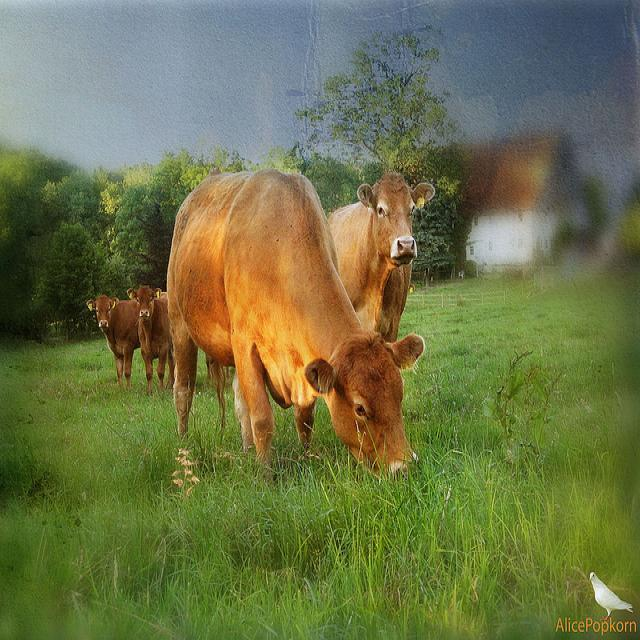cow: (164, 165, 430, 480), (328, 175, 436, 332), (85, 293, 139, 391), (125, 283, 169, 395)
